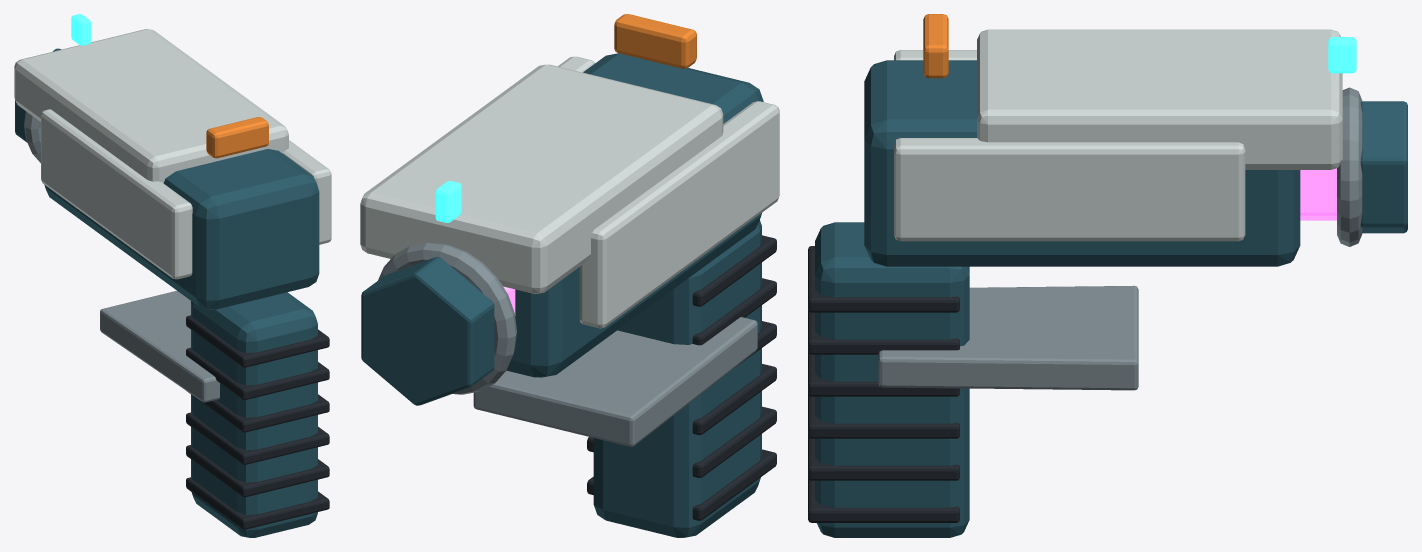
File: prism_sidearm.glb
3 views of the same model, side by side, from view 1: azimuth 30°, elevation 25°; view 2: azimuth 150°, elevation 25°; view 3: azimuth 270°, elevation 25° (orthographic). The views are drawn at different scales.
Parts seen in each view (by area): view 1: prism_sidearm_mesh, Shroud; view 2: prism_sidearm_mesh, Shroud; view 3: prism_sidearm_mesh, Shroud.
Boxes of the visible parts, <box> form: prism_sidearm_mesh: <box>15,14,331,537</box>; Shroud: <box>14,29,288,183</box>; prism_sidearm_mesh: <box>361,14,779,537</box>; Shroud: <box>360,64,723,293</box>; prism_sidearm_mesh: <box>808,14,1407,537</box>; Shroud: <box>977,29,1342,169</box>.
Size of the model in its own units: 0.17 by 0.385 by 0.4265.
